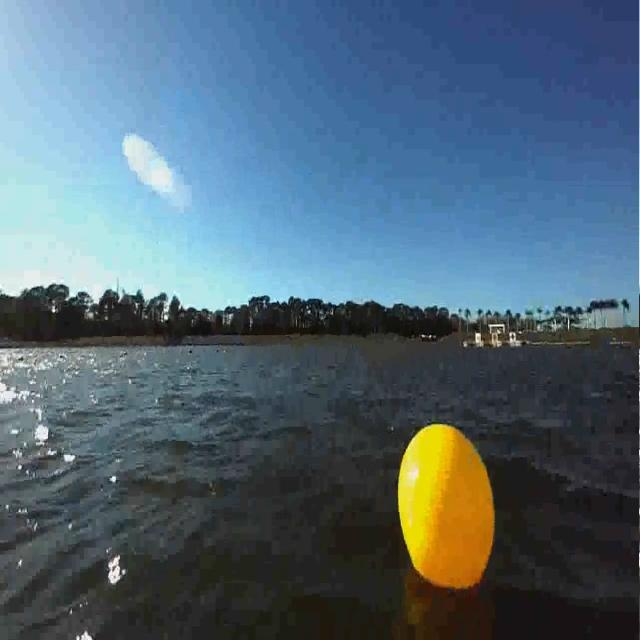yellow-buoy: (390, 416, 499, 593)
